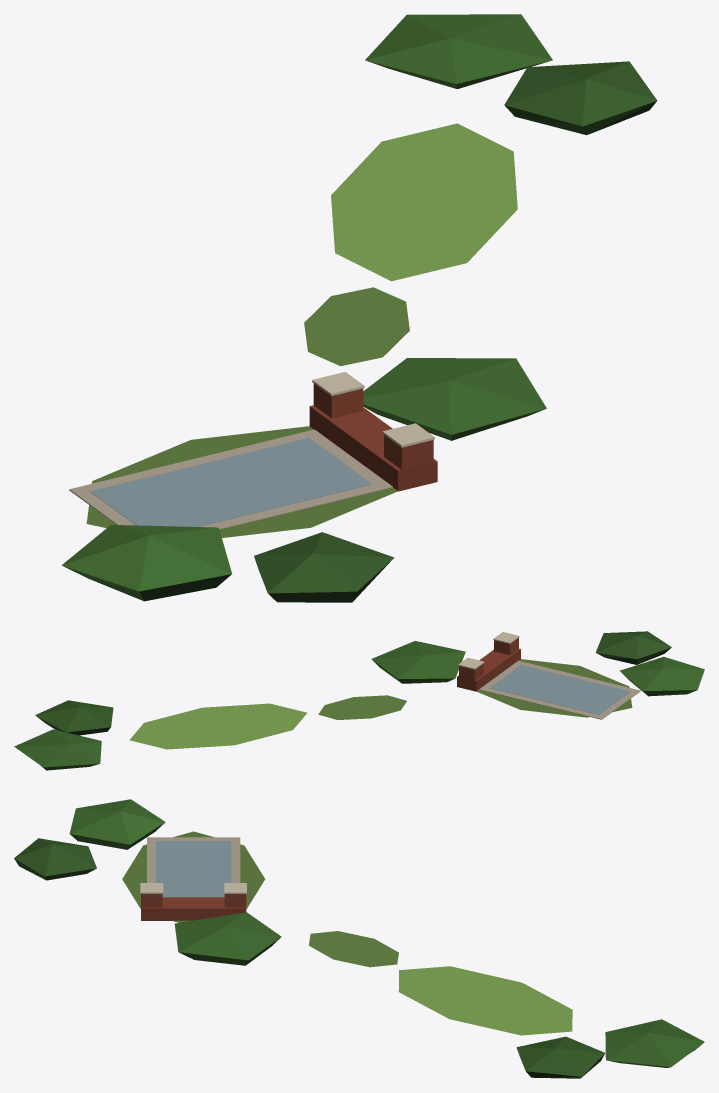
The picture shows the model from 3 angles, top to bottom: view 1: azimuth 30°, elevation 25°; view 2: azimuth 150°, elevation 25°; view 3: azimuth 270°, elevation 25°; orthographic projection. The views are drawn at different scales.
Parts seen in each view (by area): view 1: astoria-park-lod3; view 2: astoria-park-lod3; view 3: astoria-park-lod3.
Boxes of the visible parts, box(x1,y1,x2,y2) form: astoria-park-lod3: box(61, 14, 657, 602); astoria-park-lod3: box(14, 631, 704, 770); astoria-park-lod3: box(14, 799, 704, 1078).
Size of the model in its own units: 691 by 31.97 by 734.
